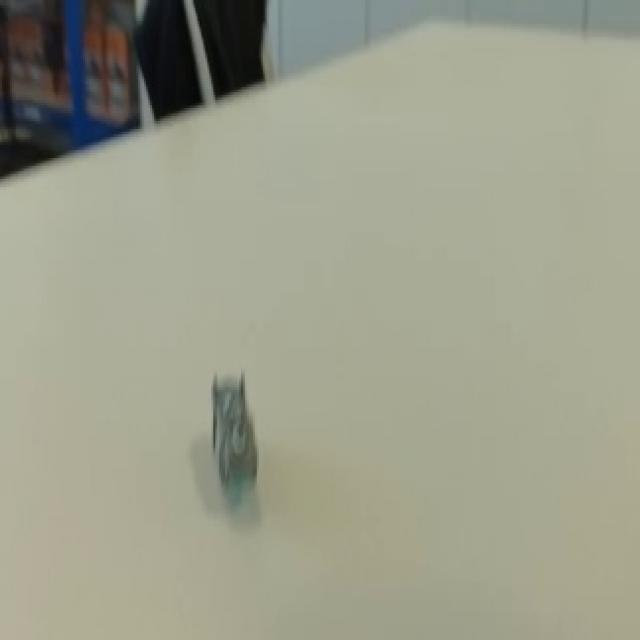5_NanoBug_GrisClaro: (186, 336, 304, 514)
